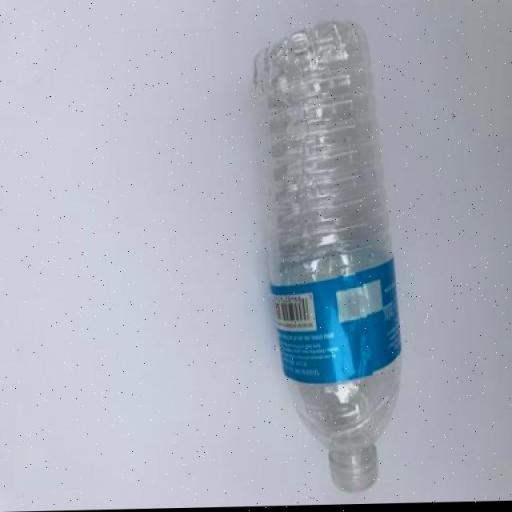plastic: (254, 23, 399, 493)
